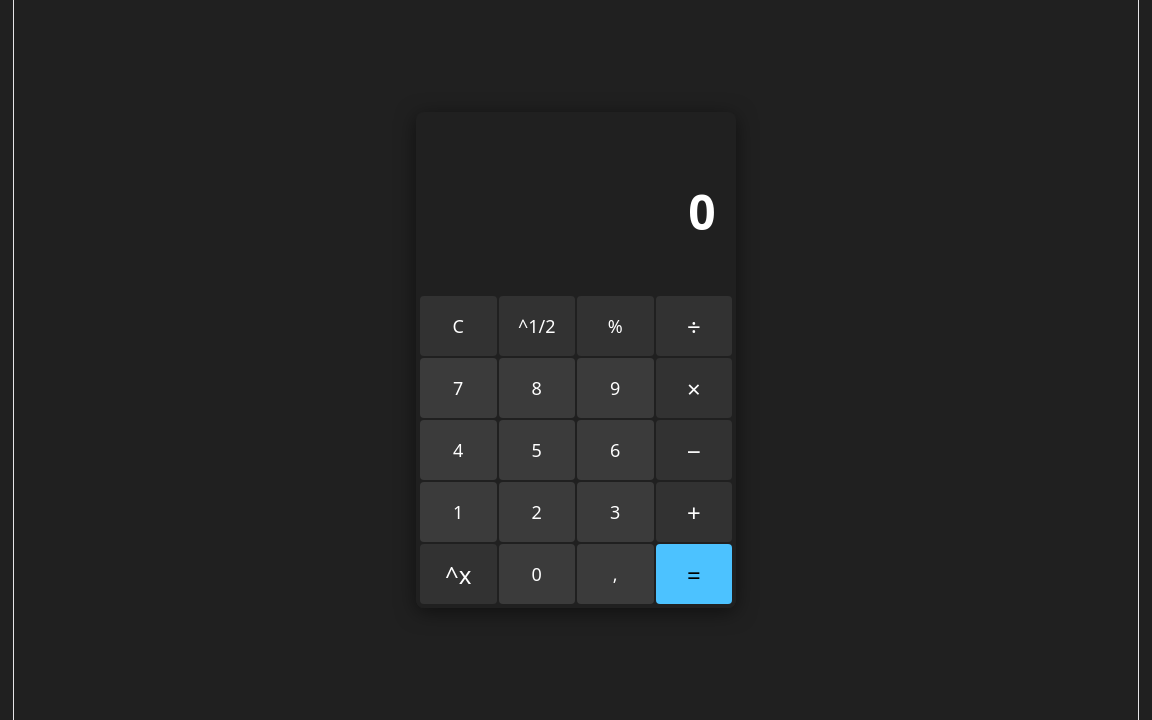
Test case: App › shows "Error" on the display and an error toast when the calculation fails
Click the button "5". click: point(537, 450)
box: x1=498 y1=420 x2=575 y2=480
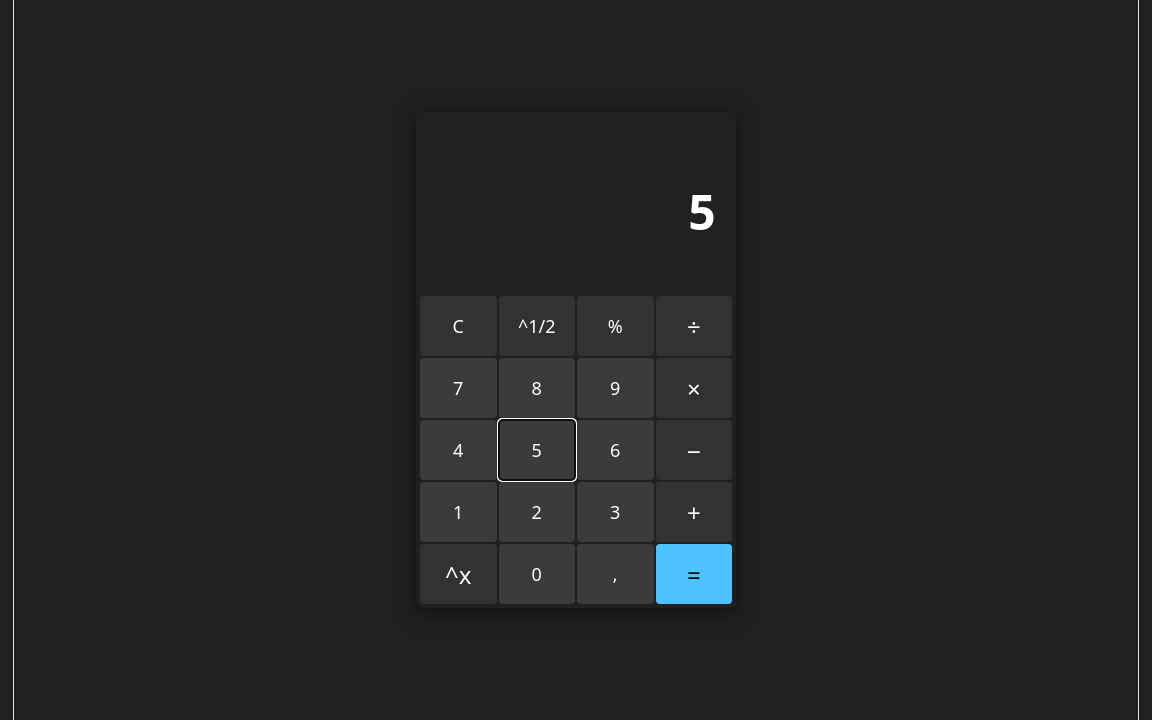
Click the button "÷". click: point(694, 326)
box: x1=656 y1=296 x2=732 y2=356
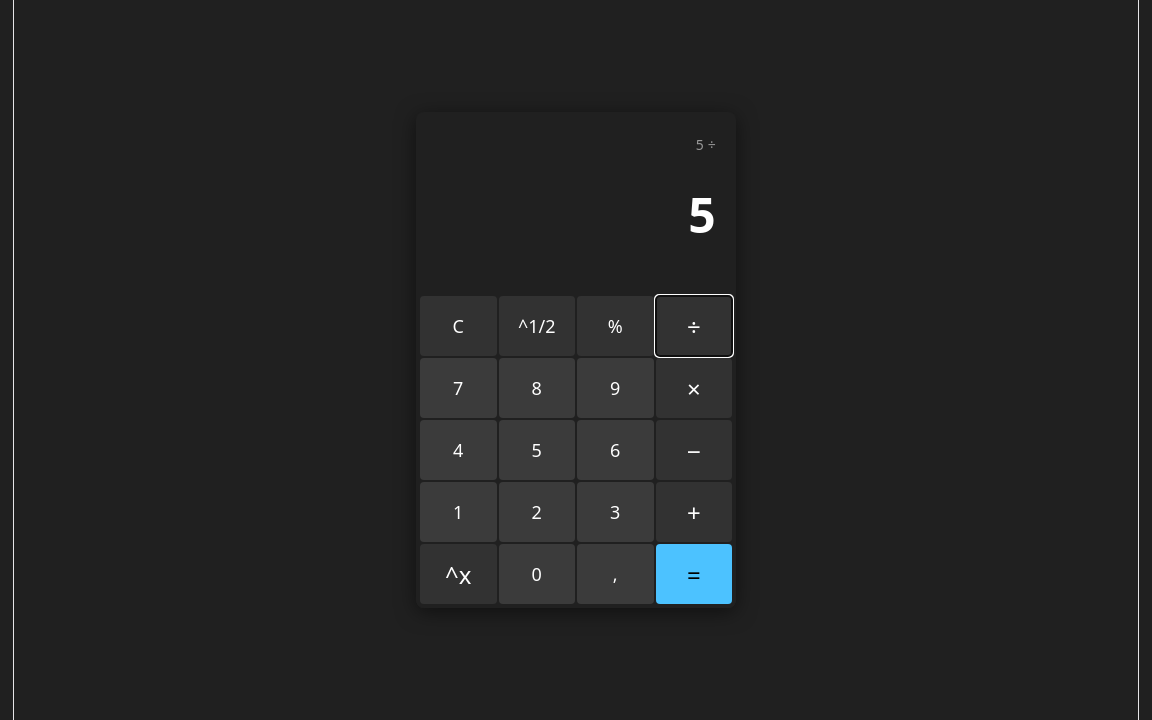
Click the button "0". click: point(537, 574)
box: x1=498 y1=544 x2=575 y2=604
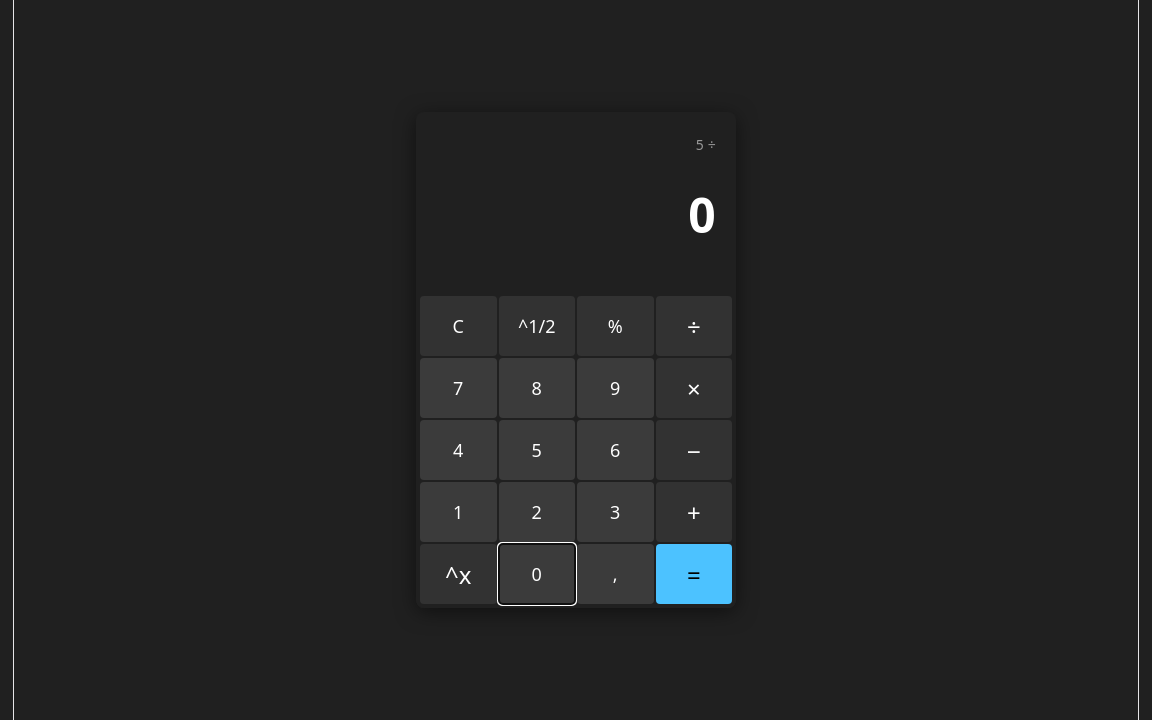
Click the button "=". click: point(694, 574)
box: x1=656 y1=544 x2=732 y2=604
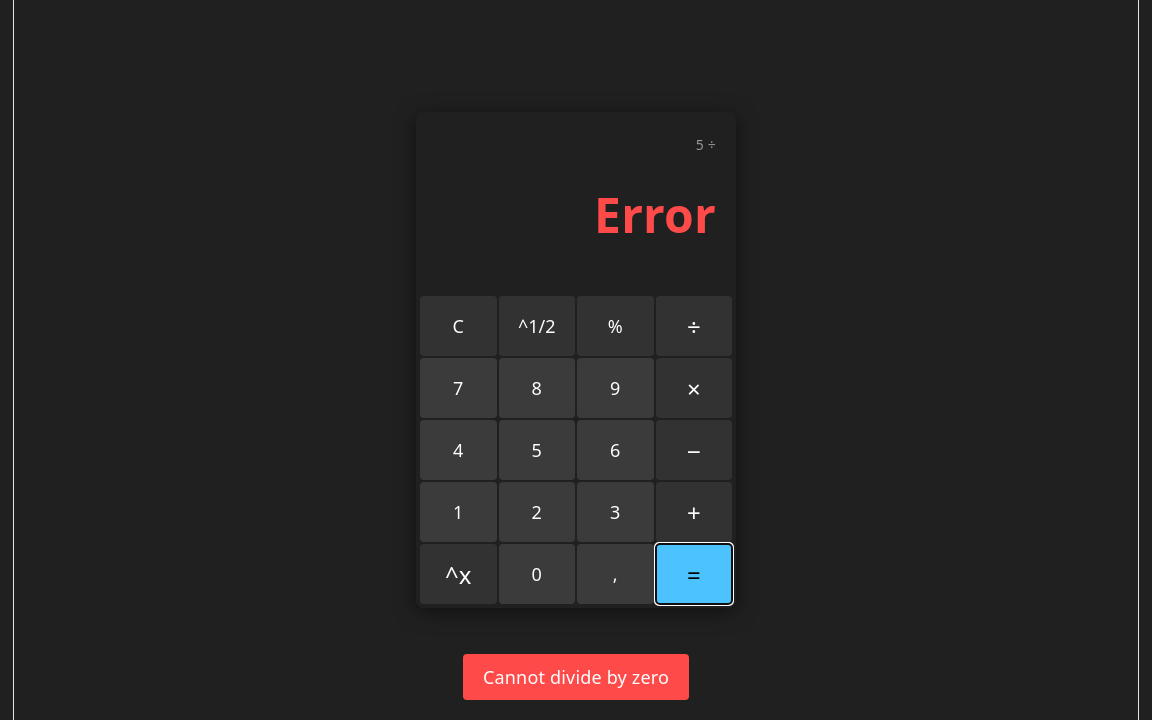
Expected: the text with class "current" reads "Error", x1=594 y1=182 x2=716 y2=247
Expected: the text "Cannot divide by zero" is shown, x1=463 y1=654 x2=689 y2=700
